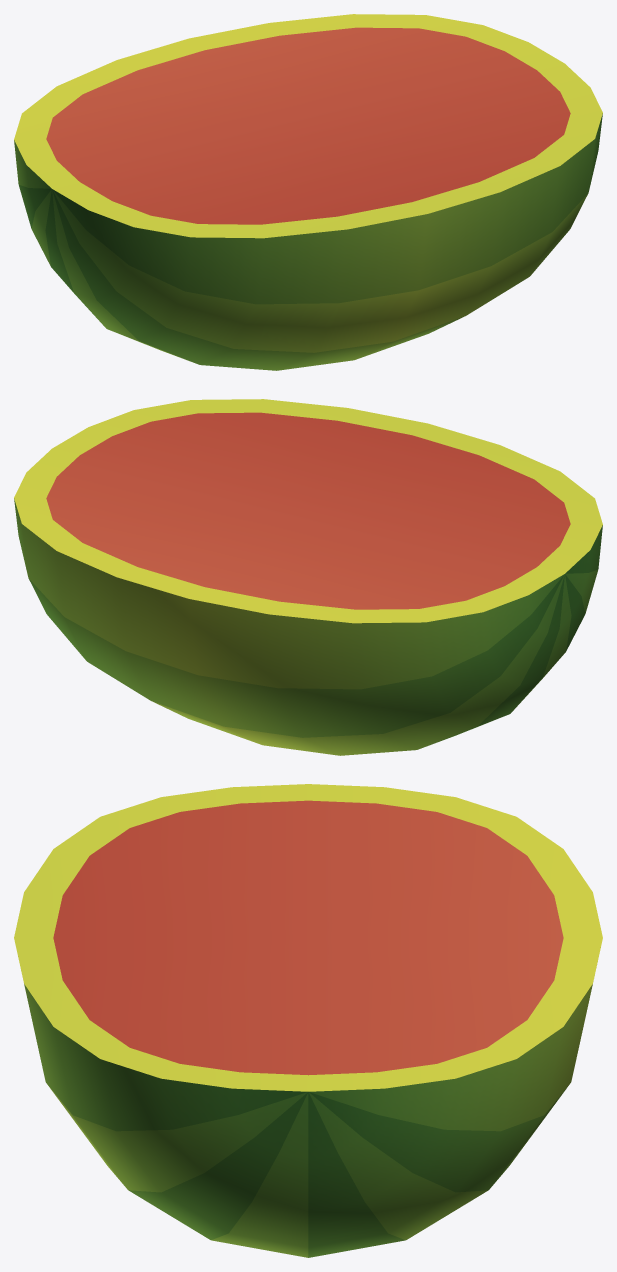
Rendered from Melon_Slice_01.glb.
3 views of the same model, one above another, from view 1: azimuth 30°, elevation 25°; view 2: azimuth 150°, elevation 25°; view 3: azimuth 270°, elevation 25° (orthographic). The views are drawn at different scales.
Parts seen in each view (by area): view 1: Melon_Slice_01; view 2: Melon_Slice_01; view 3: Melon_Slice_01.
Part boxes in pixels (x1,y1,x2,y2): Melon_Slice_01: (14, 14, 602, 370); Melon_Slice_01: (14, 399, 602, 755); Melon_Slice_01: (14, 784, 602, 1257).
Bounding box in the file's own units: 0.6065 × 0.2452 × 0.4905.
1 material, 1 textured.
